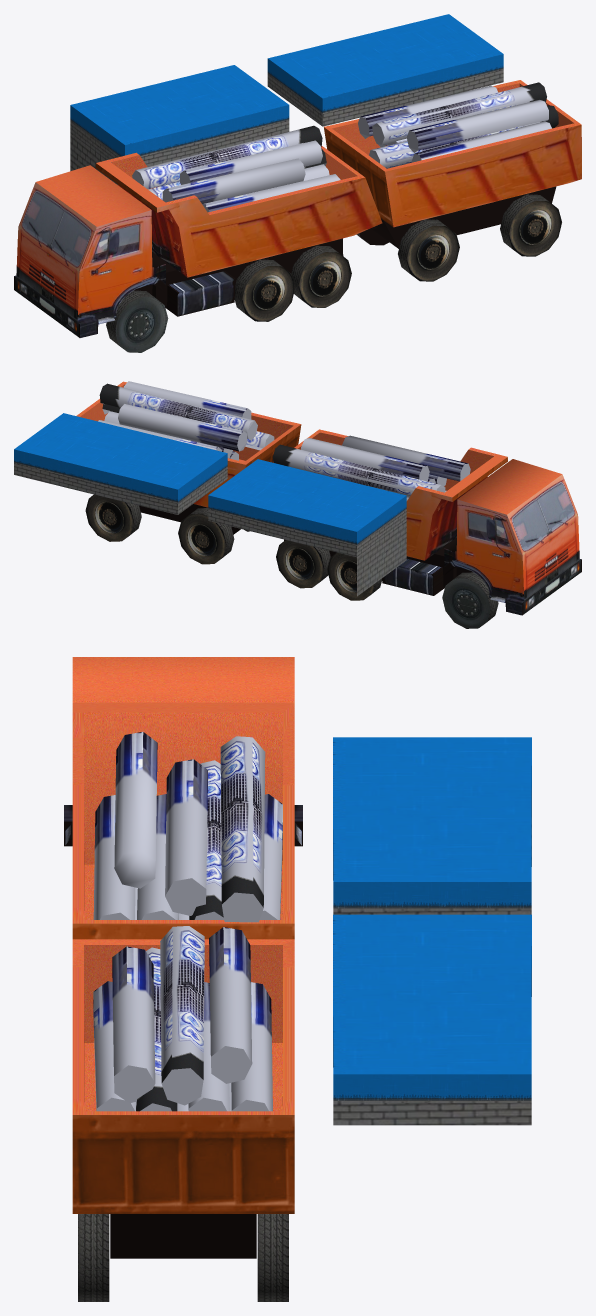
The model's file is kamaz.FBX.
3 views of the same model, one above another, from view 1: azimuth 30°, elevation 25°; view 2: azimuth 150°, elevation 25°; view 3: azimuth 270°, elevation 25° (orthographic). The views are drawn at different scales.
Parts seen in each view (by area): view 1: kamaz, pricep, kamazLoad2, kamazLoad, lift2, lift1; view 2: kamaz, kamazLoad, kamazLoad2, lift2, pricep, lift1; view 3: pricep, kamazLoad2, kamazLoad, kamaz, lift1, lift2.
Part boxes in pixels (bbox=[...]): kamaz: bbox=[14, 146, 382, 352]; pricep: bbox=[324, 80, 581, 281]; kamazLoad2: bbox=[267, 14, 503, 126]; kamazLoad: bbox=[70, 65, 289, 184]; lift2: bbox=[358, 82, 558, 168]; lift1: bbox=[132, 125, 340, 212]; kamaz: bbox=[276, 429, 581, 628]; kamazLoad: bbox=[208, 459, 406, 596]; kamazLoad2: bbox=[14, 413, 227, 514]; lift2: bbox=[98, 381, 274, 460]; pricep: bbox=[76, 381, 301, 564]; lift1: bbox=[272, 435, 470, 500]; pricep: bbox=[72, 939, 294, 1301]; kamazLoad2: bbox=[333, 914, 531, 1125]; kamazLoad: bbox=[333, 737, 531, 914]; kamaz: bbox=[64, 657, 302, 939]; lift1: bbox=[93, 732, 282, 922]; lift2: bbox=[93, 926, 272, 1111].
Bounding box in the file's own units: 1253 × 340 × 555.
